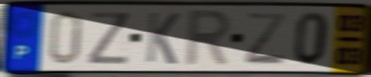0: (292, 10, 330, 68), (46, 9, 83, 68)
K: (144, 10, 182, 67)
R: (182, 7, 234, 69)
Z: (85, 10, 132, 66), (242, 11, 287, 67)
